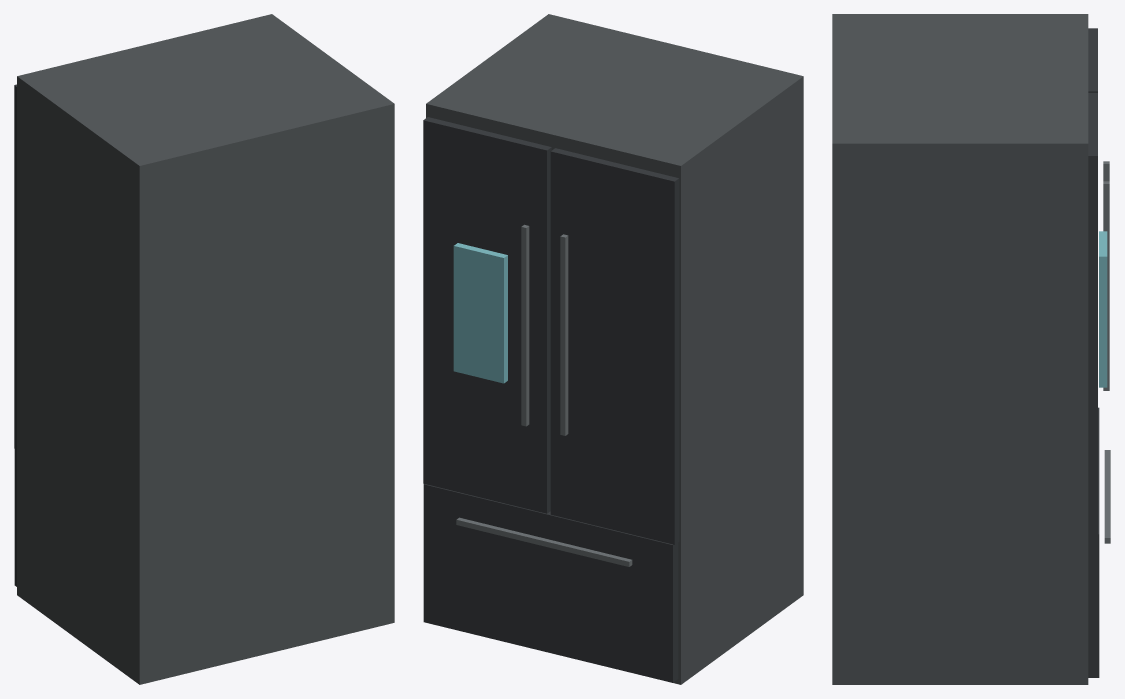
Rendered from refrigerator-smart-black.gltf.
3 renders of one model, left to right at view 1: azimuth 30°, elevation 25°; view 2: azimuth 150°, elevation 25°; view 3: azimuth 270°, elevation 25°, orthographic. The views are drawn at different scales.
Parts seen in each view (by area): view 1: refrigerator-smart-black; view 2: refrigerator-smart-black; view 3: refrigerator-smart-black.
Part boxes in pixels (x1,y1,x2,y2): refrigerator-smart-black: [14, 14, 394, 684]; refrigerator-smart-black: [423, 14, 803, 684]; refrigerator-smart-black: [832, 14, 1110, 684].
Bounding box in the file's own units: 0.9144 × 1.78 × 0.828.
